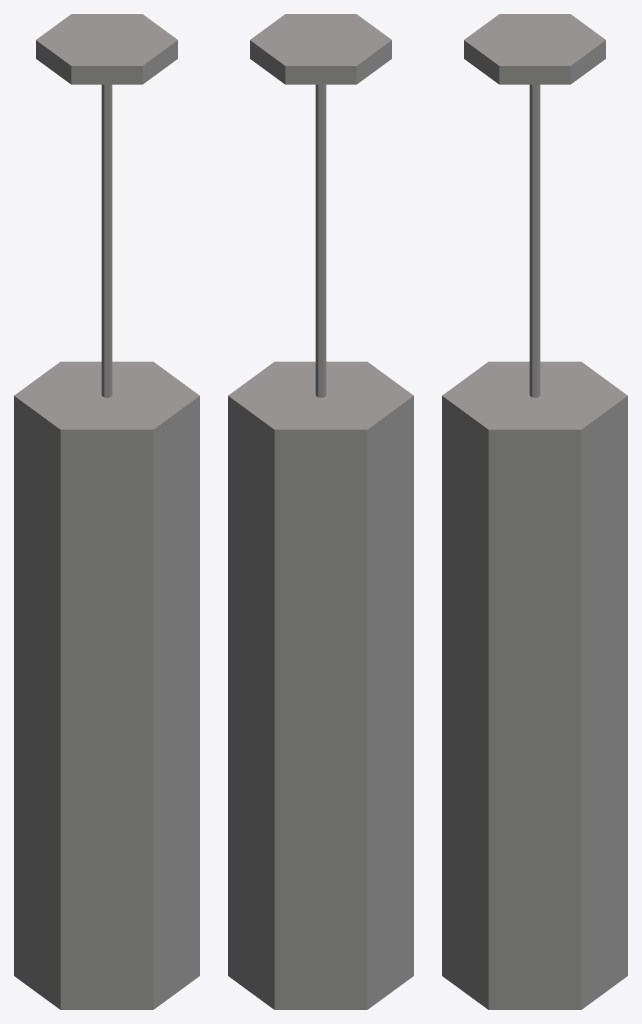
The model's file is SM_Props_Interior_Shop_Light_CeilingLight_08.fbx.
3 views of the same model, side by side, from view 1: azimuth 30°, elevation 25°; view 2: azimuth 150°, elevation 25°; view 3: azimuth 270°, elevation 25° (orthographic).
Parts seen in each view (by area): view 1: SM_Props_Interior_Shop_Light_CeilingLight_08; view 2: SM_Props_Interior_Shop_Light_CeilingLight_08; view 3: SM_Props_Interior_Shop_Light_CeilingLight_08.
Part boxes in pixels (bbox=[...]): SM_Props_Interior_Shop_Light_CeilingLight_08: bbox=[14, 14, 199, 1009]; SM_Props_Interior_Shop_Light_CeilingLight_08: bbox=[228, 14, 413, 1009]; SM_Props_Interior_Shop_Light_CeilingLight_08: bbox=[442, 14, 627, 1009].
Bounding box in the file's own units: 15.59 × 100 × 18.
